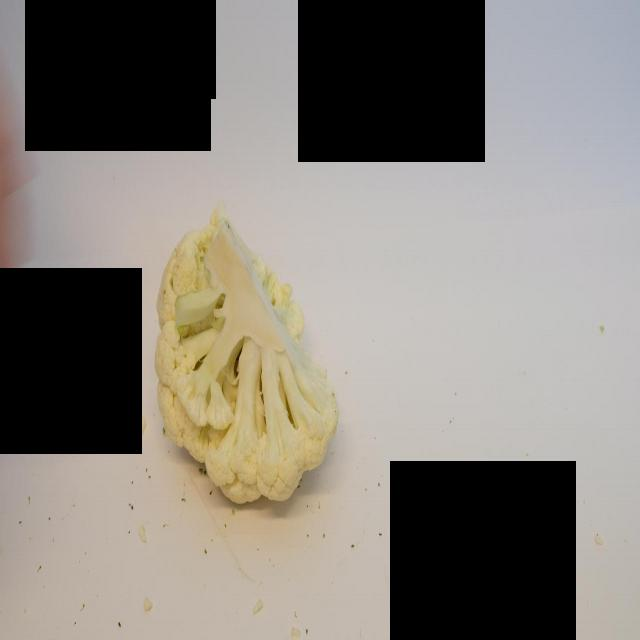cauliflower: (152, 217, 343, 508)
